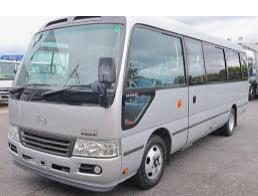bus: (11, 14, 248, 191)
